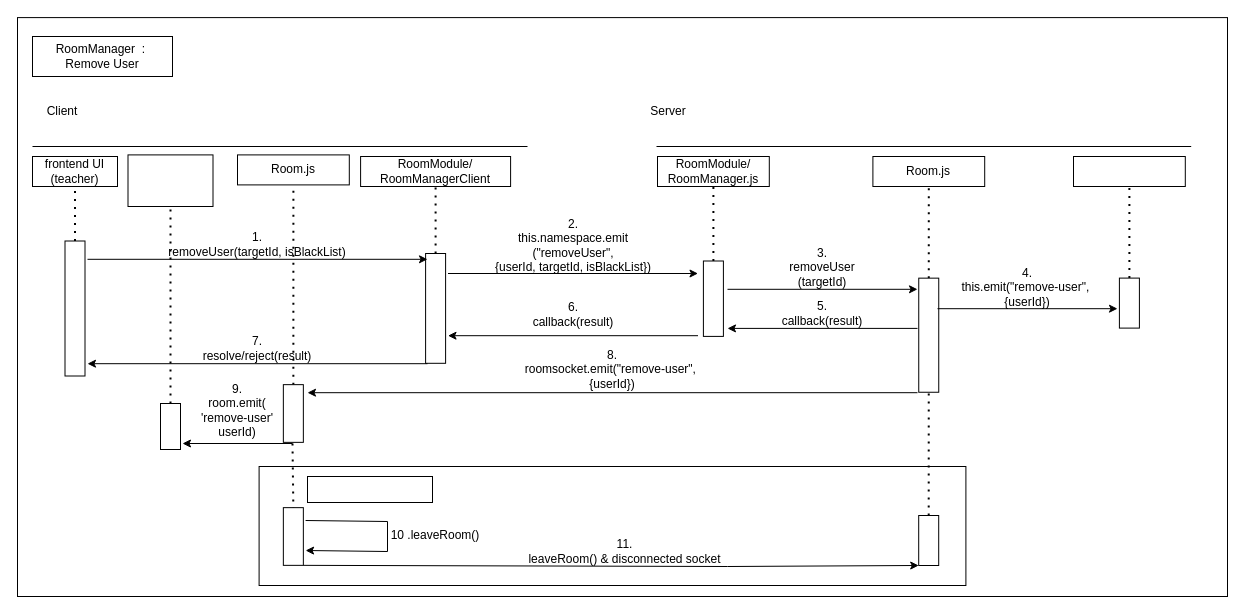
Some shapes in this 1245 by 614 pixel diagram are drawn without their labels. Each missing label, with the box of its shape:
frontend controller (all): (127, 154, 213, 206)
RoomModule: (1072, 156, 1185, 186)
userId == targetId: (306, 476, 432, 502)
